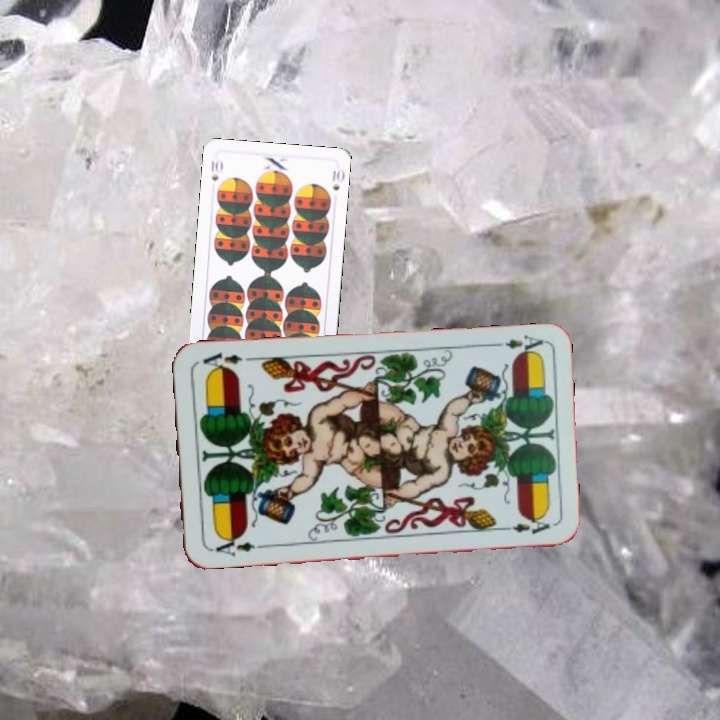EA: (207, 531, 266, 559), (486, 331, 546, 358)
S10: (207, 156, 225, 184)
